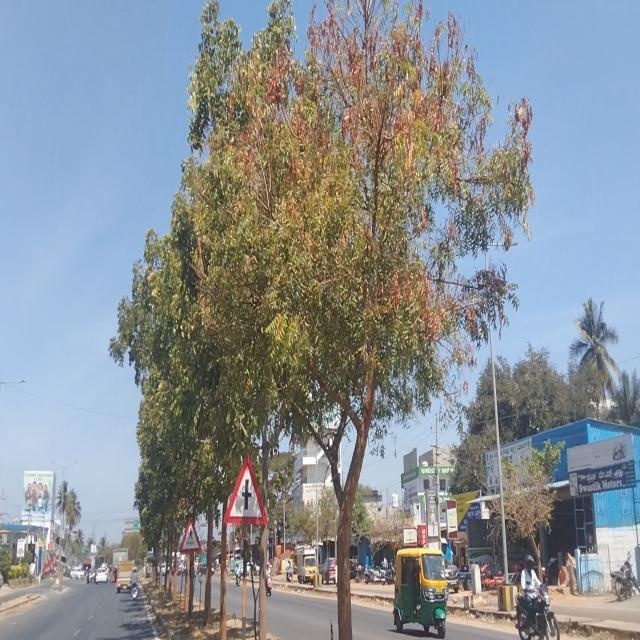bien_nguy_hiem: (222, 452, 268, 528), (180, 514, 201, 556)
